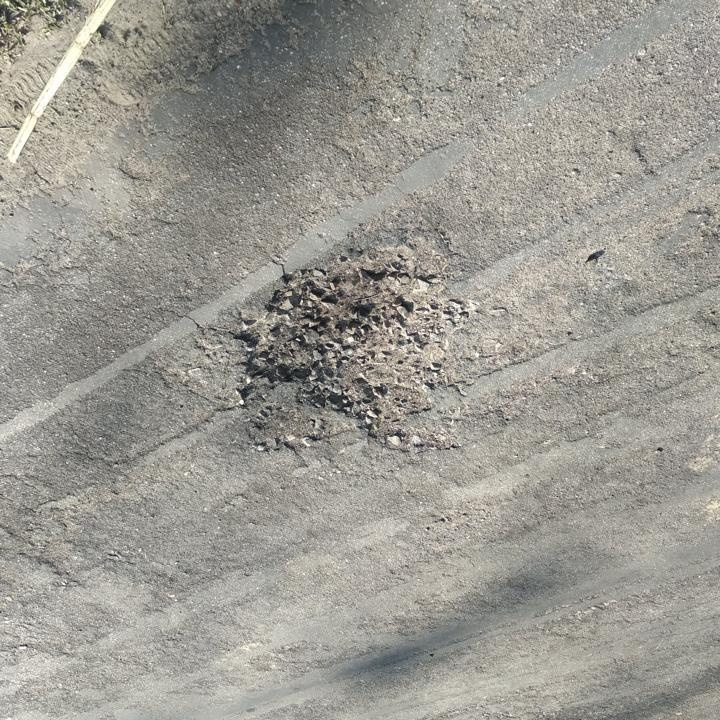pothole: (237, 244, 460, 451)
